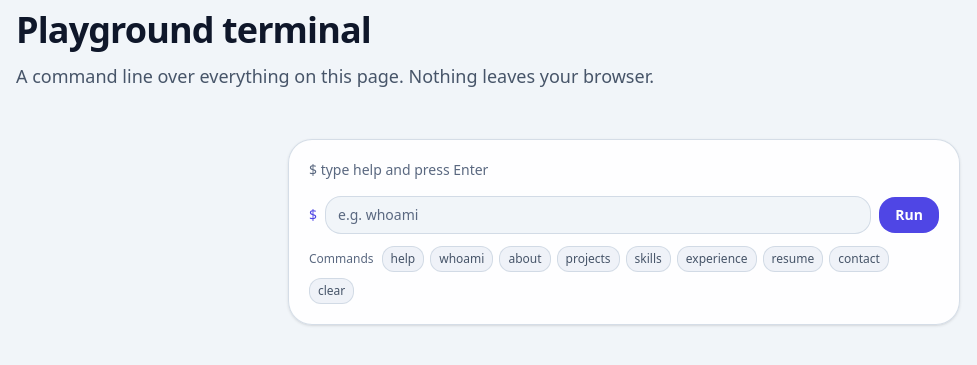
Scenario: Terminal › clears the transcript on clear
The width and height of the screenshot is (977, 365).
In the field named "Terminal command": (598, 215) [325,196,871,234], type "whoami"
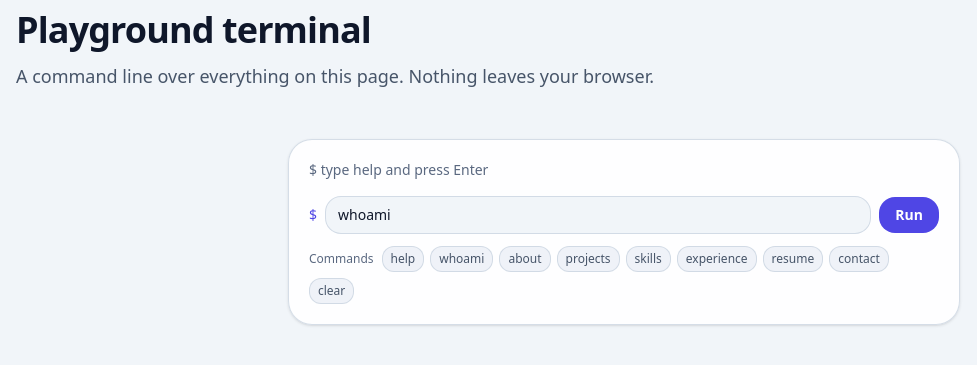
Click the button "Run": (909, 215) [879,197,939,233]
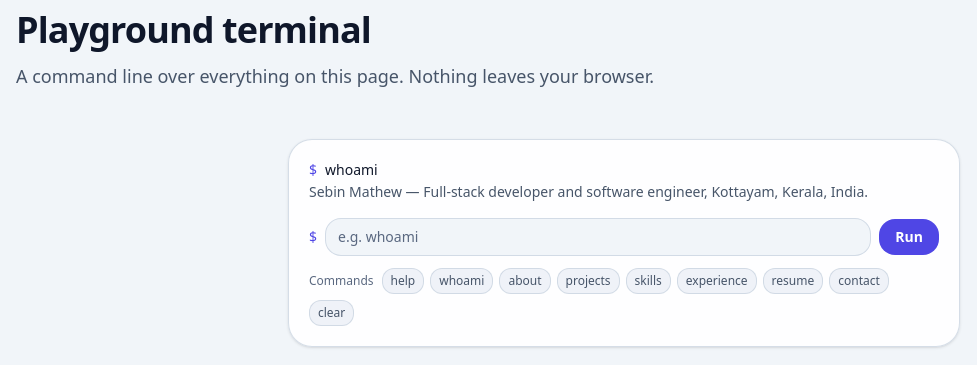
In the field named "Terminal command": (598, 237) [325,218,871,256], type "clear"
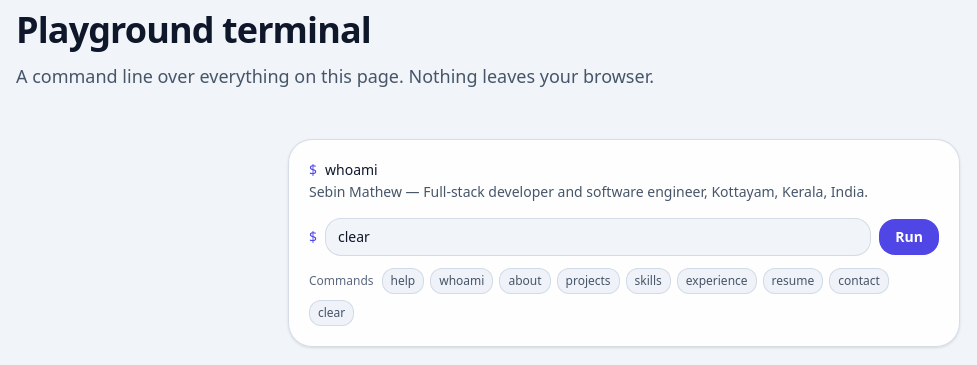
Click the button "Run": (909, 237) [879,219,939,255]
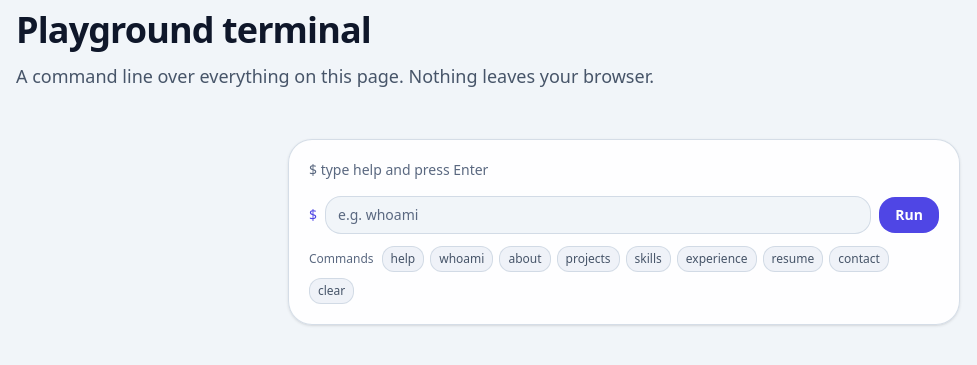
Check: the text "$ type help and press Enter" is shown, box [309,160,488,179]
